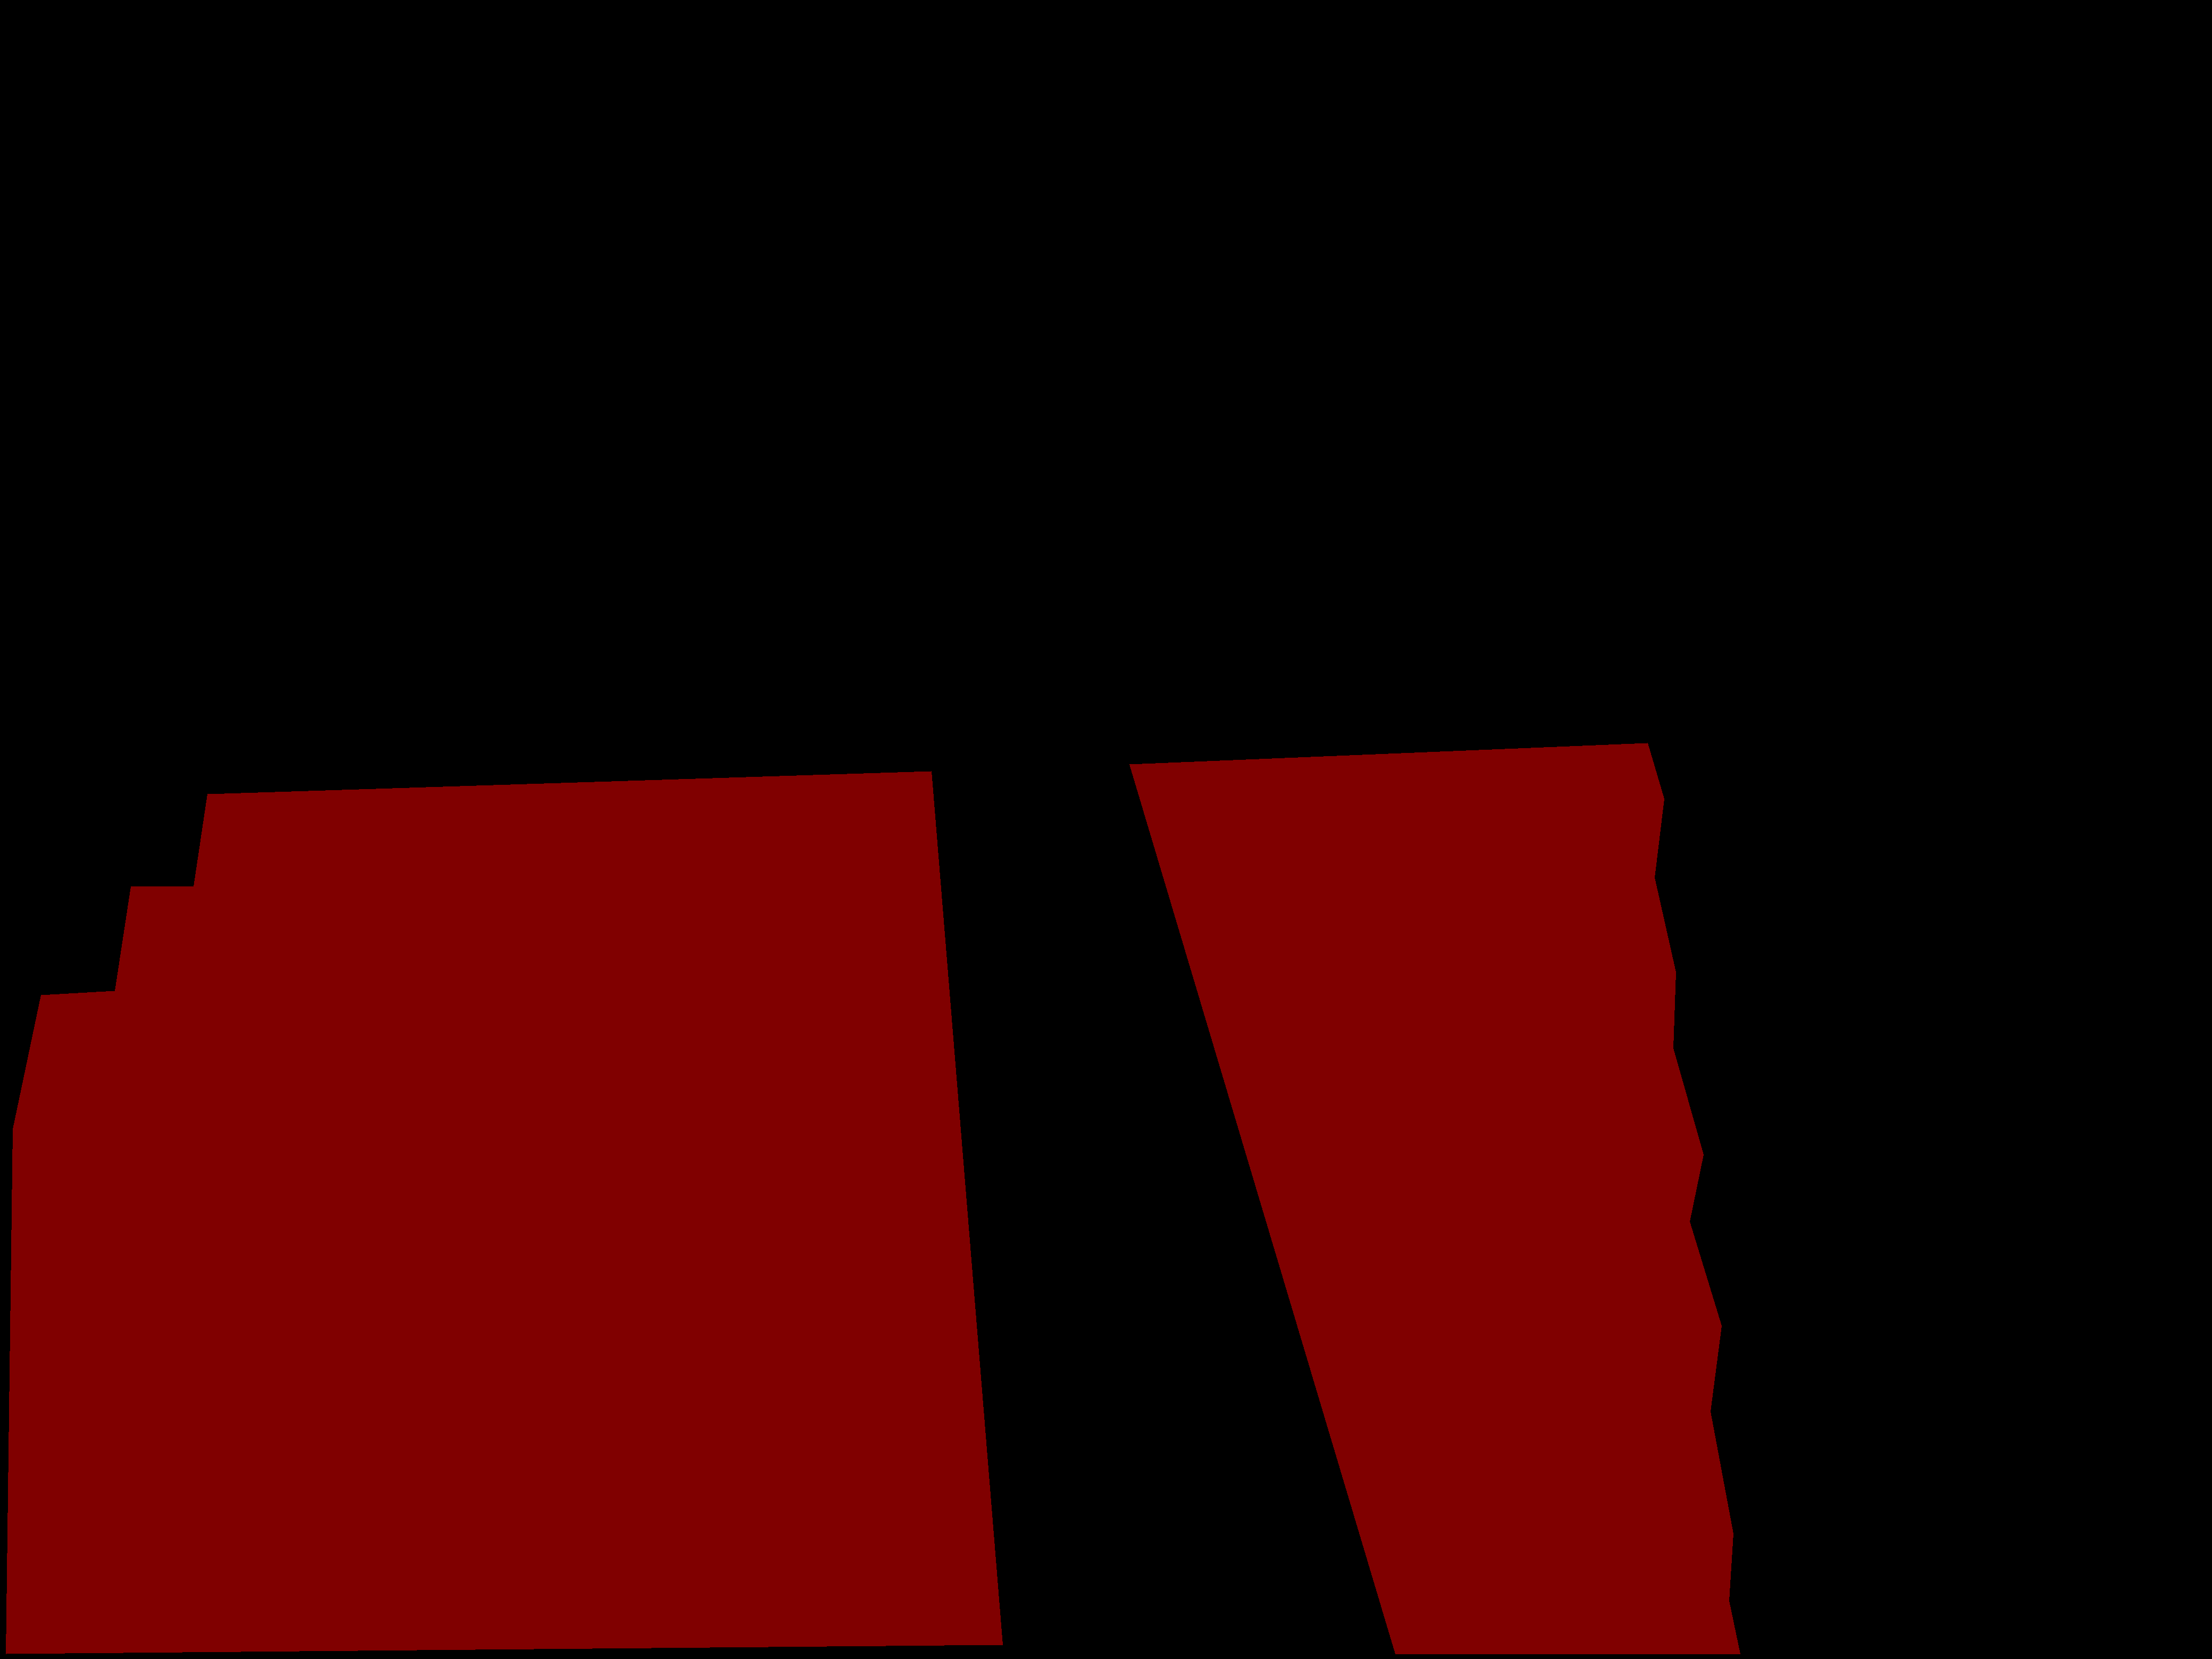stair: (5, 770, 1001, 1654), (1129, 742, 1740, 1654)
